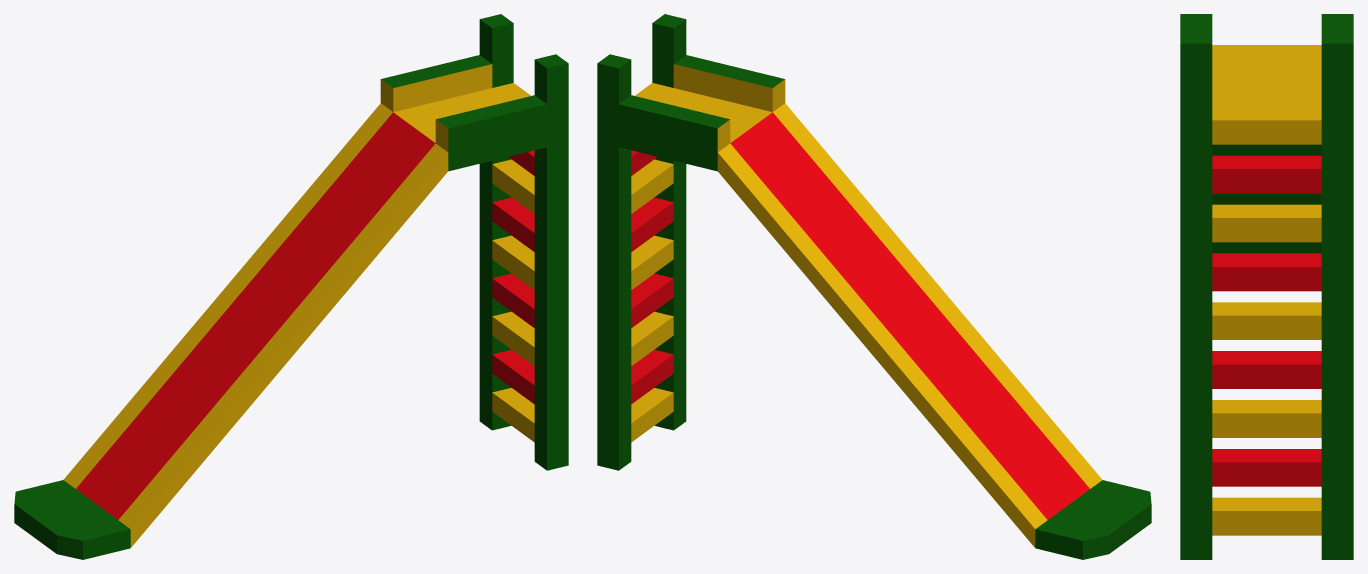
The model's file is cookie_map_Cube.fbx.
3 views of the same model, side by side, from view 1: azimuth 30°, elevation 25°; view 2: azimuth 150°, elevation 25°; view 3: azimuth 270°, elevation 25° (orthographic). The views are drawn at different scales.
Visible parts, largest first — view 1: Cube; view 2: Cube; view 3: Cube.
Part boxes in pixels (x1,y1,x2,y2): Cube: (14, 14, 568, 559); Cube: (597, 14, 1151, 559); Cube: (1180, 14, 1353, 559).
Size of the model in its own units: 53.26 by 41.01 by 12.45.
